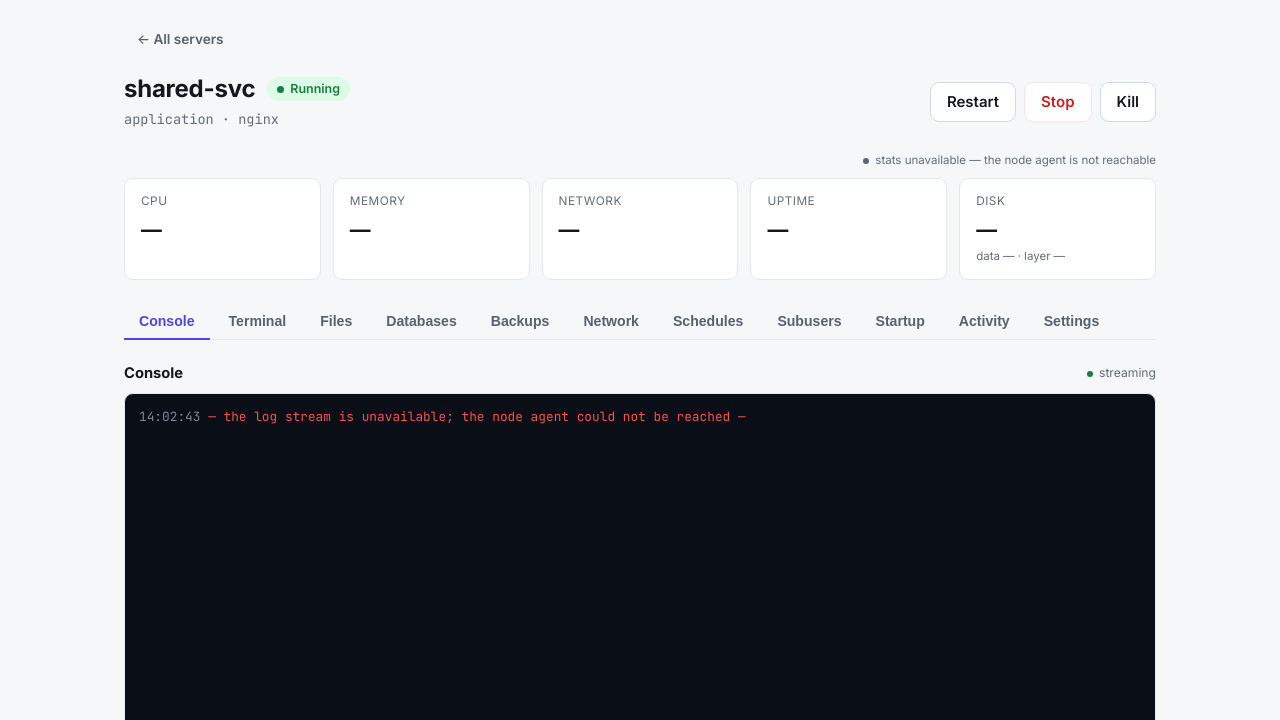
Test: ServerDetail Activity tab › renders the audit trail
The image size is (1280, 720).
Click the button "activity" at (984, 322), box [944,304,1025,340]
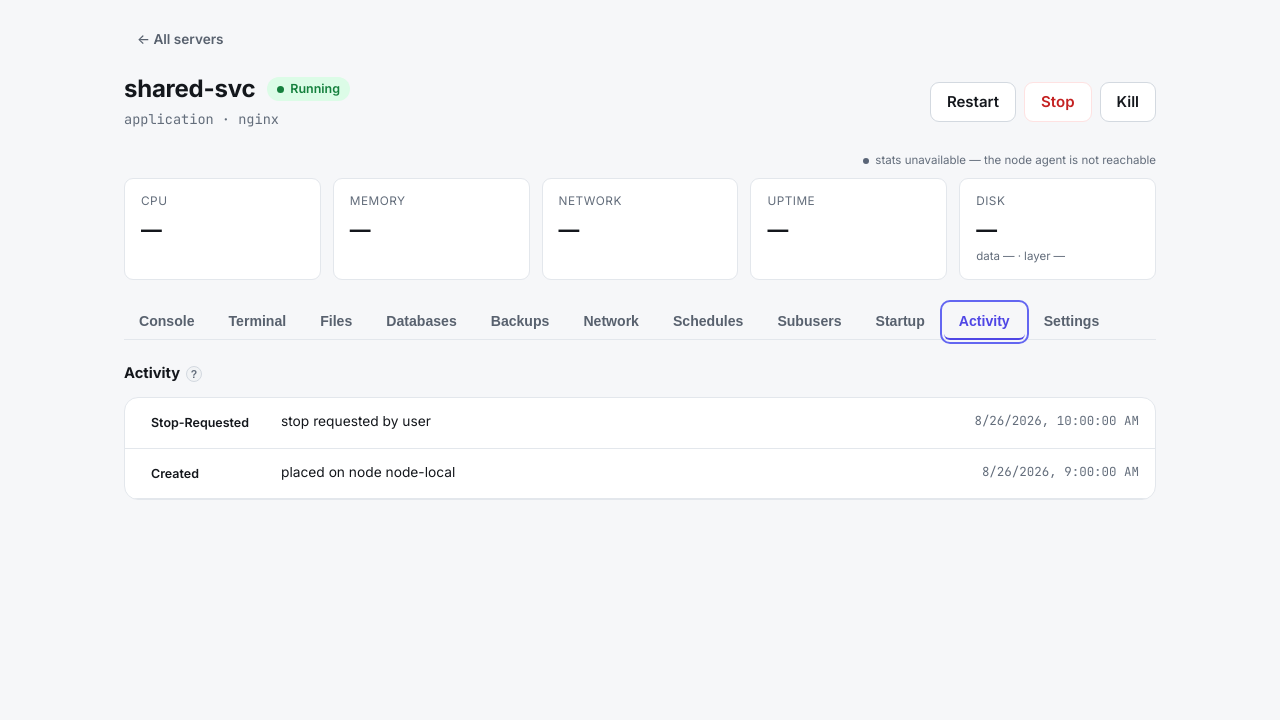
Result: the text "stop-requested" is shown at [151,415,249,430]
Result: the text "placed on node node-local" is shown at [281,464,455,480]
